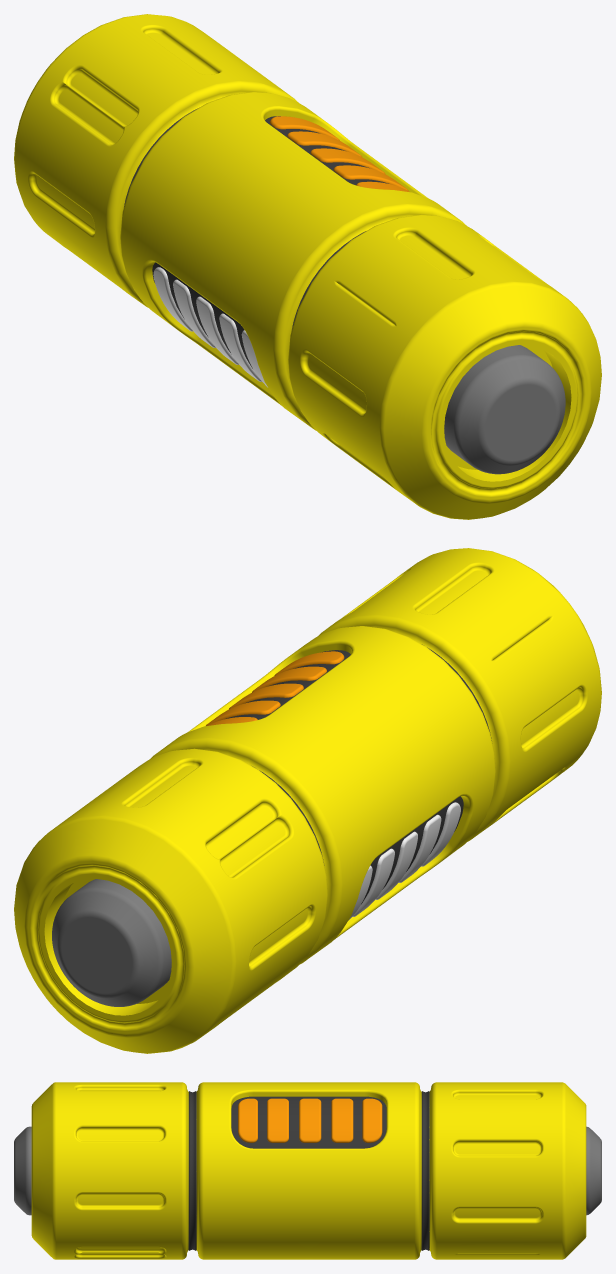
Rendered from AAR001_fuel_tank002.fbx.
3 renders of one model, top to bottom at view 1: azimuth 30°, elevation 25°; view 2: azimuth 150°, elevation 25°; view 3: azimuth 270°, elevation 25°, orthographic. The views are drawn at different scales.
Parts seen in each view (by area): view 1: Body1, Body2, Body7, Body16, Body17, Body14, Body11, Body12, Body9, Body15; view 2: Body1, Body5, Body7, Body14, Body16, Body17, Body11, Body9, Body12, Body13; view 3: Body1, Body7, Body2, Body3, Body6, Body5, Body12, Body11, Body9, Body10, Body8.
Part boxes in pixels (x1=…): Body1: x1=14, y1=14, x2=601, y2=519; Body2: x1=444, y1=345, x2=565, y2=474; Body7: x1=152, y1=116, x2=388, y2=368; Body16: x1=196, y1=296, x2=238, y2=364; Body17: x1=173, y1=279, x2=215, y2=347; Body14: x1=219, y1=313, x2=261, y2=381; Body11: x1=310, y1=148, x2=385, y2=174; Body12: x1=287, y1=131, x2=361, y2=156; Body9: x1=333, y1=165, x2=408, y2=190; Body15: x1=153, y1=267, x2=192, y2=331; Body1: x1=14, y1=548, x2=601, y2=1053; Body5: x1=52, y1=879, x2=171, y2=1006; Body7: x1=226, y1=650, x2=463, y2=904; Body14: x1=398, y1=814, x2=441, y2=882; Body16: x1=375, y1=831, x2=417, y2=899; Body17: x1=352, y1=848, x2=394, y2=916; Body11: x1=229, y1=683, x2=303, y2=709; Body9: x1=252, y1=666, x2=326, y2=692; Body12: x1=206, y1=700, x2=280, y2=725; Body13: x1=421, y1=802, x2=460, y2=866; Body1: x1=31, y1=1082, x2=586, y2=1259; Body7: x1=231, y1=1096, x2=386, y2=1148; Body2: x1=14, y1=1126, x2=31, y2=1215; Body3: x1=188, y1=1091, x2=196, y2=1250; Body6: x1=421, y1=1091, x2=429, y2=1250; Body5: x1=586, y1=1126, x2=601, y2=1215; Body12: x1=331, y1=1098, x2=353, y2=1142; Body11: x1=299, y1=1098, x2=321, y2=1142; Body9: x1=267, y1=1098, x2=288, y2=1142; Body10: x1=362, y1=1098, x2=382, y2=1142; Body8: x1=238, y1=1098, x2=257, y2=1142.
Size of the model in its own units: 8 by 8 by 26.5.
